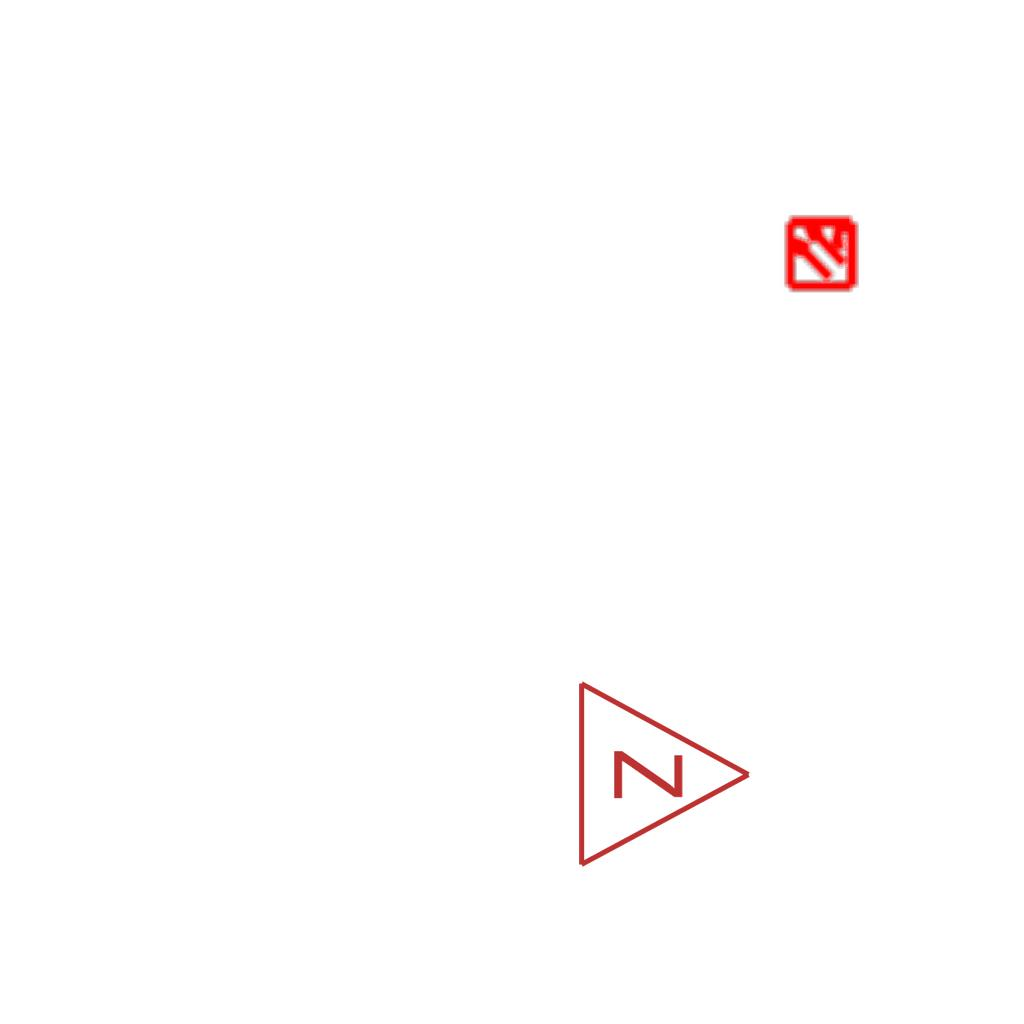OT_Multisensormelder_(Kombination_RMO_WMD): (765, 195, 878, 308)
Zimmersignalleuchte: (564, 674, 764, 870)
